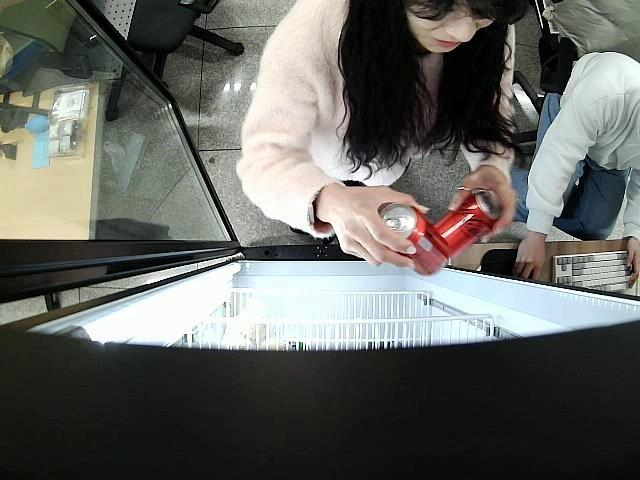11_cocaColaZero: (376, 200, 451, 275), (451, 187, 500, 254)
